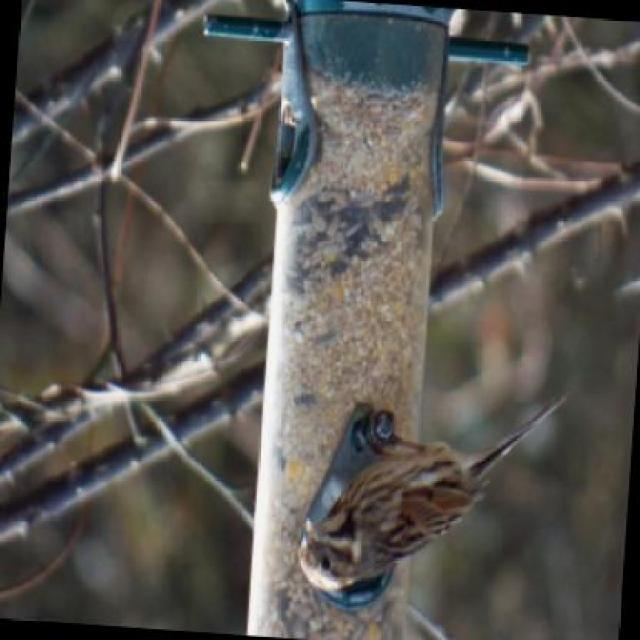Bird: (287, 395, 547, 603)
